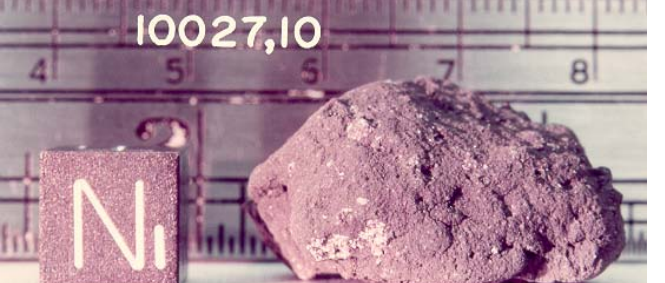Breccia: (250, 69, 629, 280), (402, 128, 589, 254)
